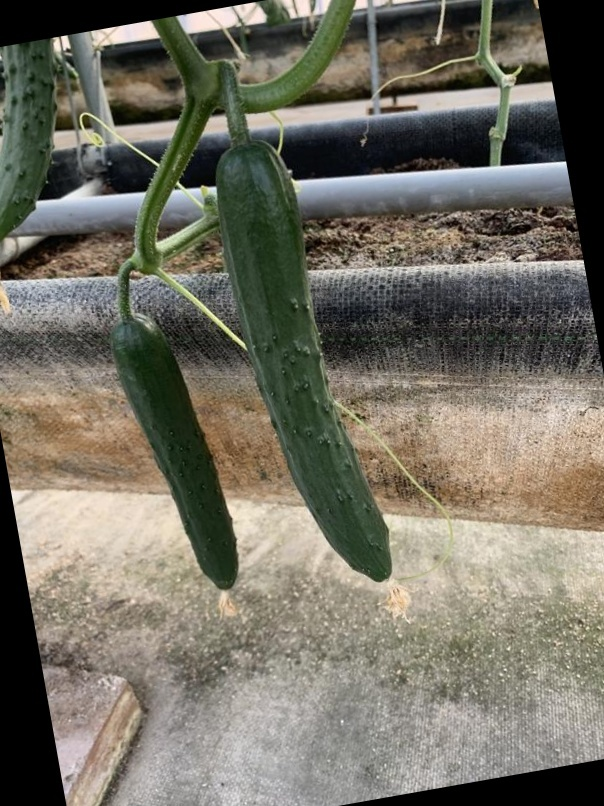mature: (214, 133, 394, 596), (108, 313, 241, 596)
